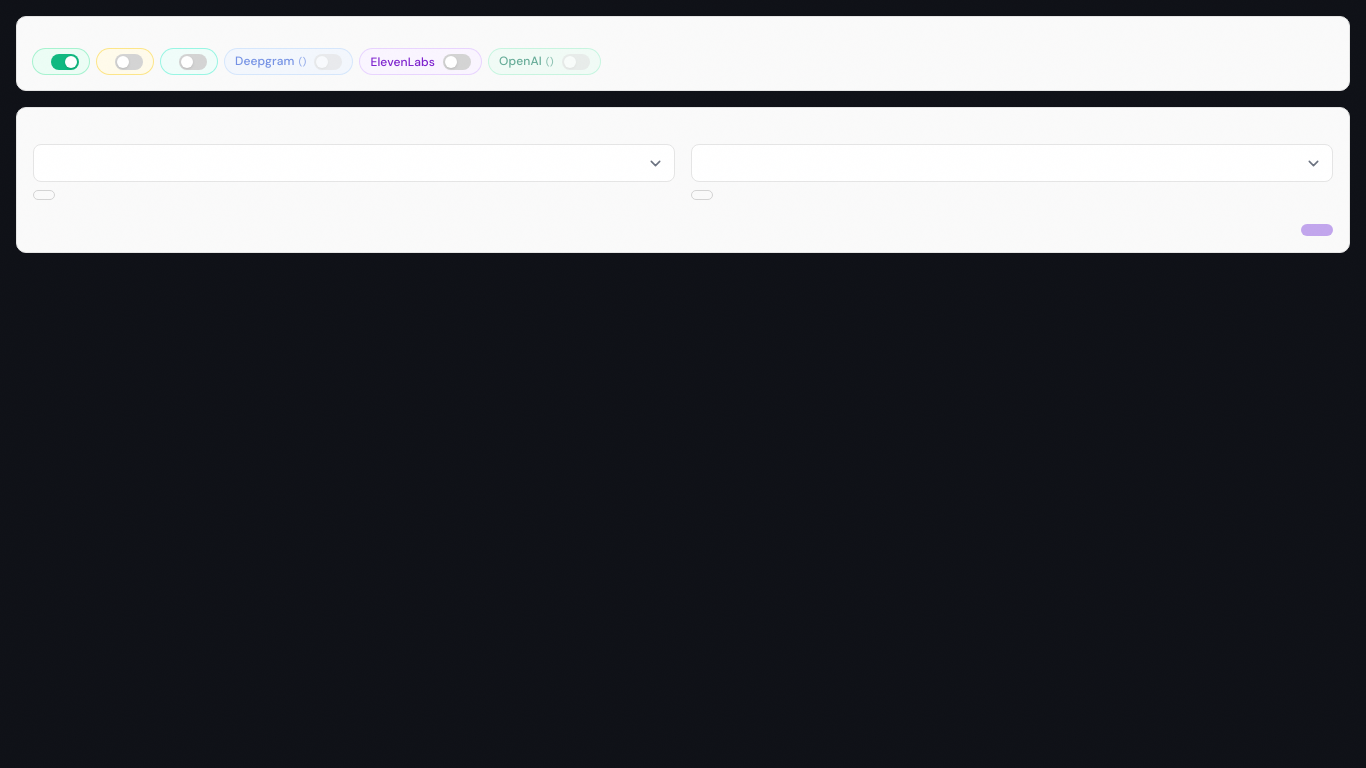
Test case: VoicePanel › opens the install modal when the Piper chip is clicked
Expected: the element with test id "voice-providers-section" is shown, x1=16 y1=16 x2=1350 y2=91
Click the switch with test id "voice-provider-chip-piper" at (193,62), box x1=179 y1=54 x2=207 y2=70
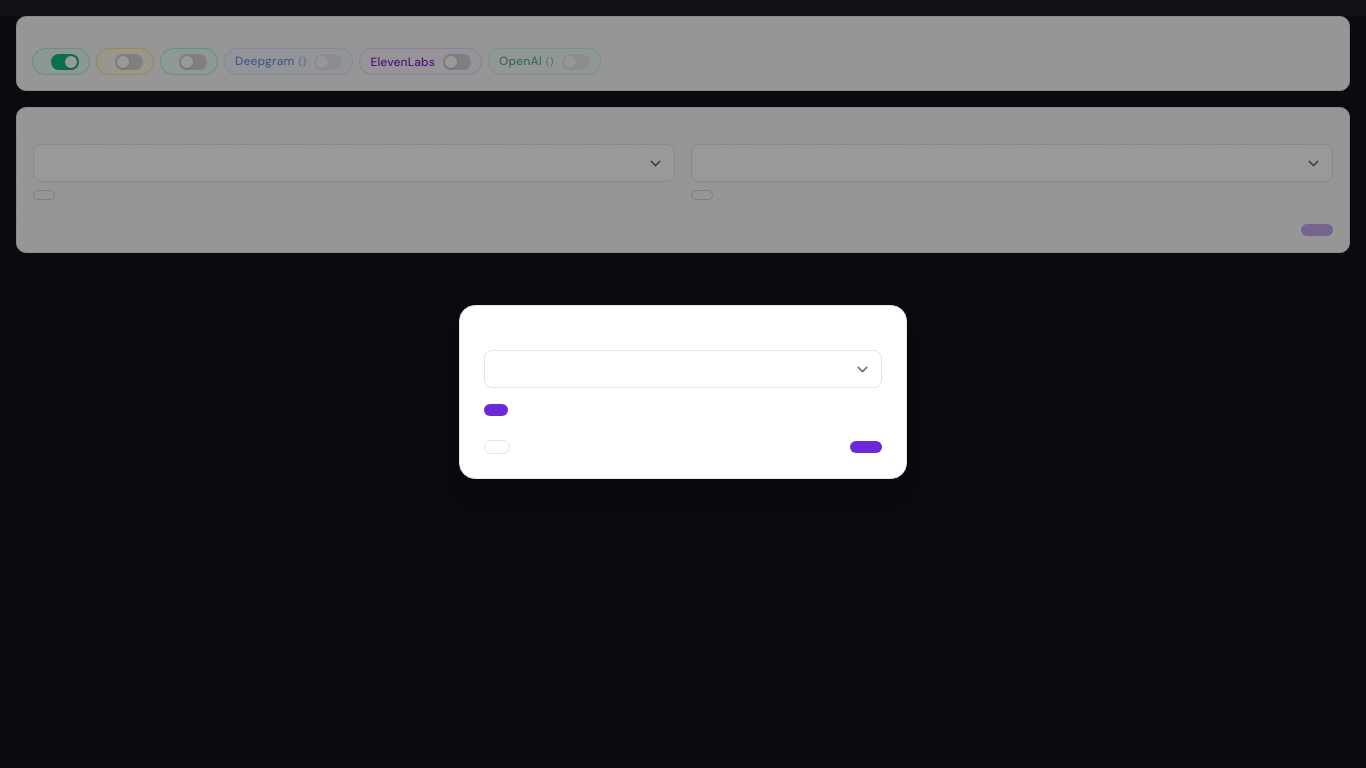
Now the element with test id "voice-provider-key-modal" is shown
